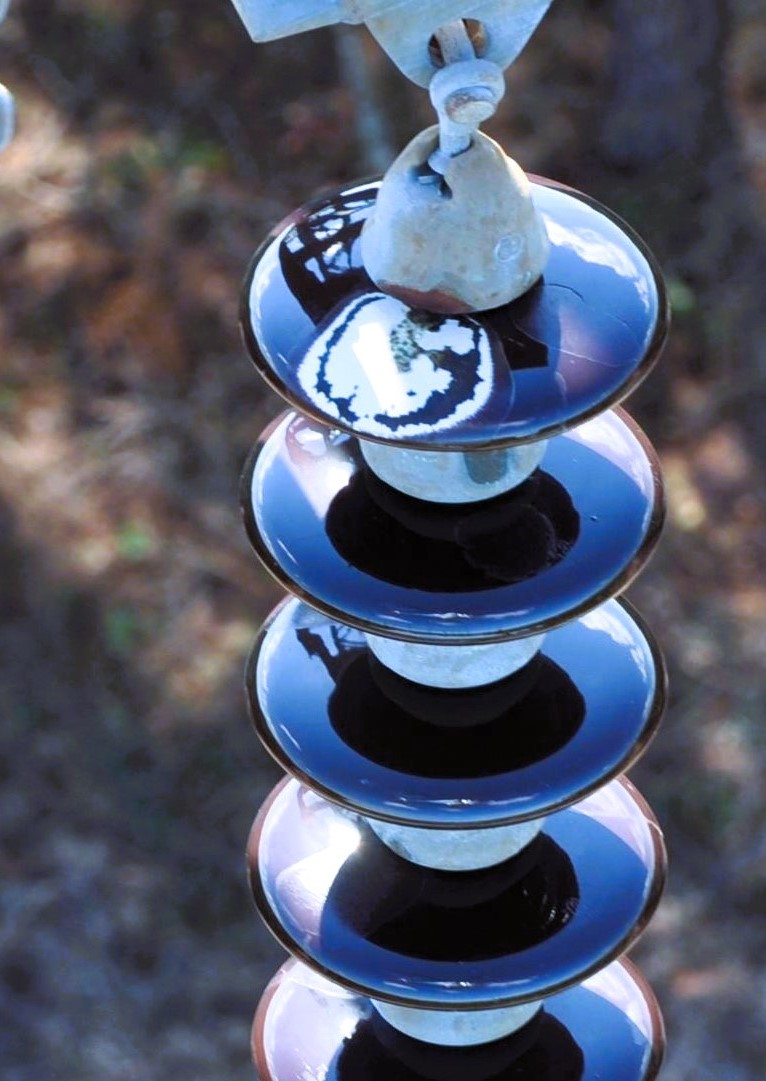Insulator flashover: (226, 147, 682, 462)
